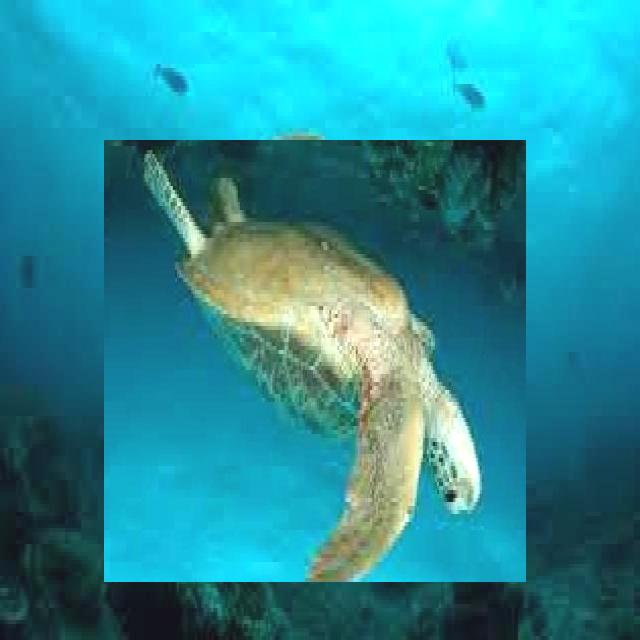Sea turtle: (104, 140, 526, 582)
